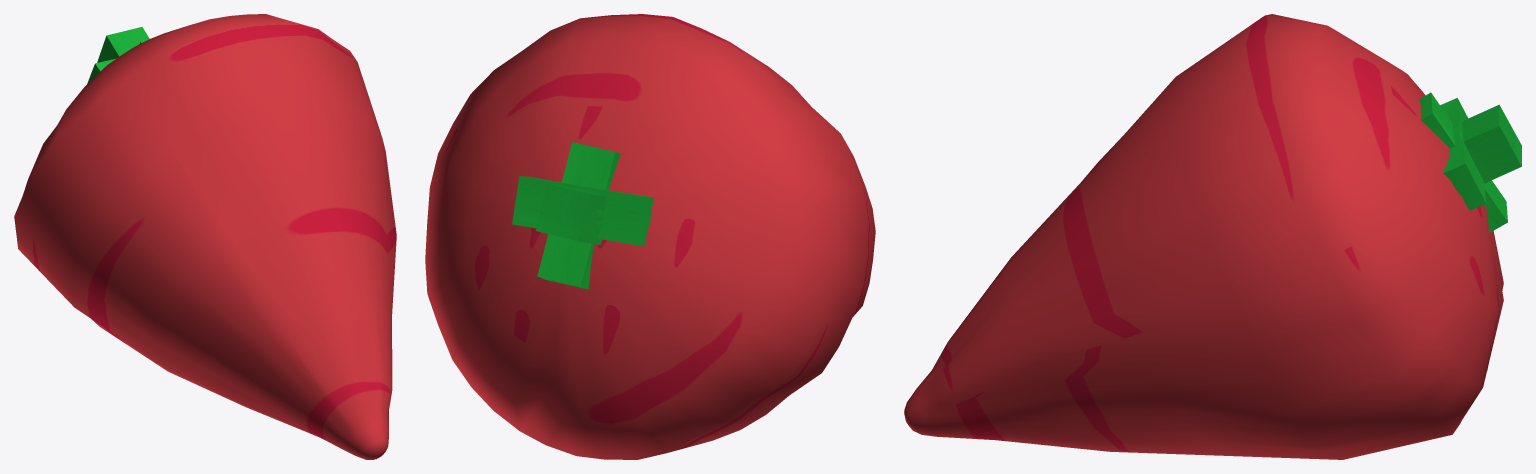
File: Strawberry.fbx
The picture shows the model from 3 angles, left to right: view 1: azimuth 30°, elevation 25°; view 2: azimuth 150°, elevation 25°; view 3: azimuth 270°, elevation 25°; orthographic projection. The views are drawn at different scales.
Parts seen in each view (by area): view 1: pCone1, pCube1; view 2: pCone1, pasted__pCube1, pasted__pasted__pCube1, pCube1; view 3: pCone1, pCube1, pasted__pasted__pCube1, pasted__pCube1.
Part boxes in pixels (left/top/right/bottom): pCone1: left=14, top=14, right=396, bottom=459; pCube1: left=97, top=27, right=149, bottom=62; pCone1: left=425, top=14, right=875, bottom=459; pasted__pCube1: left=537, top=142, right=620, bottom=289; pasted__pasted__pCube1: left=512, top=176, right=653, bottom=245; pCube1: left=536, top=183, right=607, bottom=244; pCone1: left=904, top=14, right=1503, bottom=459; pCube1: left=1462, top=104, right=1521, bottom=183; pasted__pasted__pCube1: left=1440, top=98, right=1486, bottom=210; pasted__pCube1: left=1419, top=92, right=1507, bottom=232.
Size of the model in its own units: 0.4808 by 0.455 by 0.6283.
